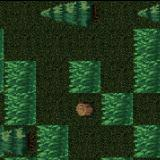Obstacle: (68, 92, 100, 124), (4, 124, 36, 156), (69, 0, 100, 30)
Slow: (4, 59, 36, 125), (133, 28, 160, 92), (37, 124, 68, 160), (69, 59, 101, 92), (101, 92, 133, 125), (133, 125, 160, 156)
